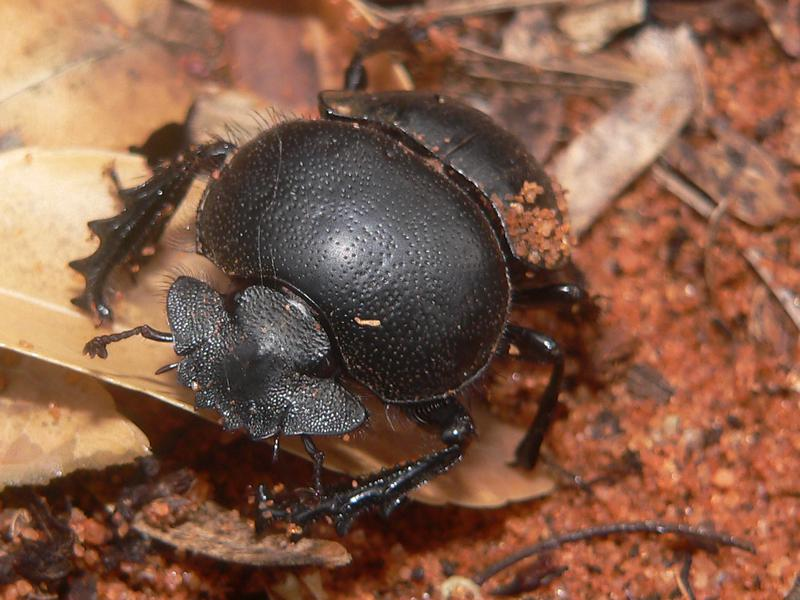Spiny_beetle: (103, 94, 565, 465)
